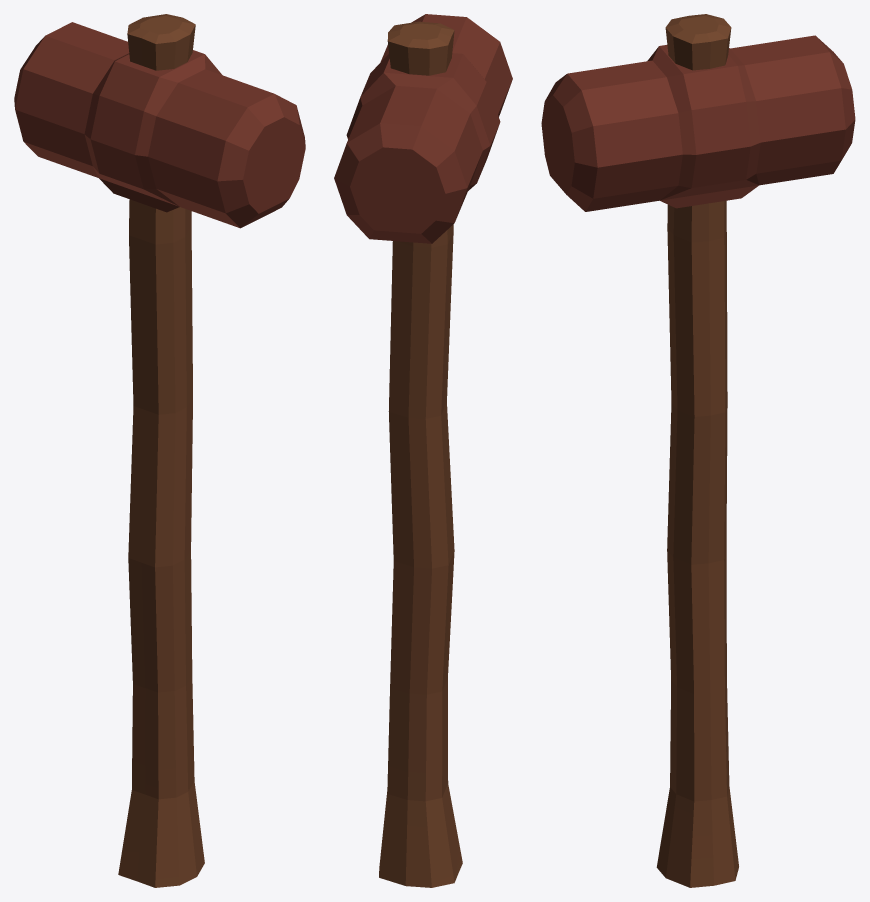
Rendered from hammer_copper.glb.
3 renders of one model, left to right at view 1: azimuth 30°, elevation 25°; view 2: azimuth 150°, elevation 25°; view 3: azimuth 270°, elevation 25°, orthographic.
Visible parts, largest first — view 1: HammerV12; view 2: HammerV12; view 3: HammerV12.
Boxes of the visible parts, x1,y1,x2,y2 form: HammerV12: (14, 14, 305, 887); HammerV12: (334, 14, 512, 887); HammerV12: (541, 14, 855, 887).
Size of the model in its own units: 0.1539 by 0.6564 by 0.2213.
Materials: 2 (2 with a texture image).
